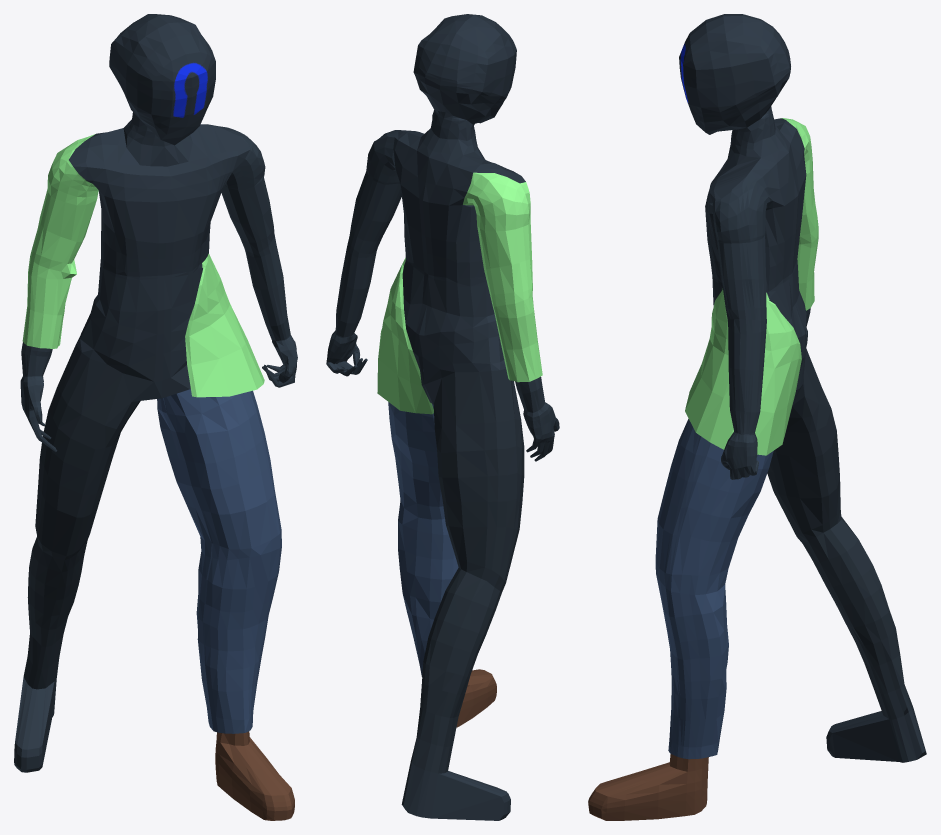
Rendered from Mar_Recover_000022.obj.
3 views of the same model, side by side, from view 1: azimuth 30°, elevation 25°; view 2: azimuth 150°, elevation 25°; view 3: azimuth 270°, elevation 25° (orthographic). The views are drawn at different scales.
Visible parts, largest first — view 1: Cube.000_Cube.001; view 2: Cube.000_Cube.001; view 3: Cube.000_Cube.001.
Part boxes in pixels (x1,y1,x2,y2): Cube.000_Cube.001: (14, 14, 297, 820); Cube.000_Cube.001: (326, 14, 559, 820); Cube.000_Cube.001: (588, 14, 926, 820).
Bounding box in the file's own units: 1.32 × 3.9 × 1.54.
